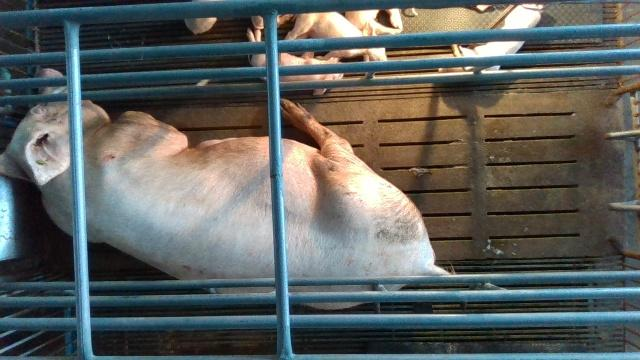piglet: (439, 4, 542, 70), (246, 27, 344, 95), (286, 12, 387, 61)
sow-sleep: (0, 67, 453, 309)
